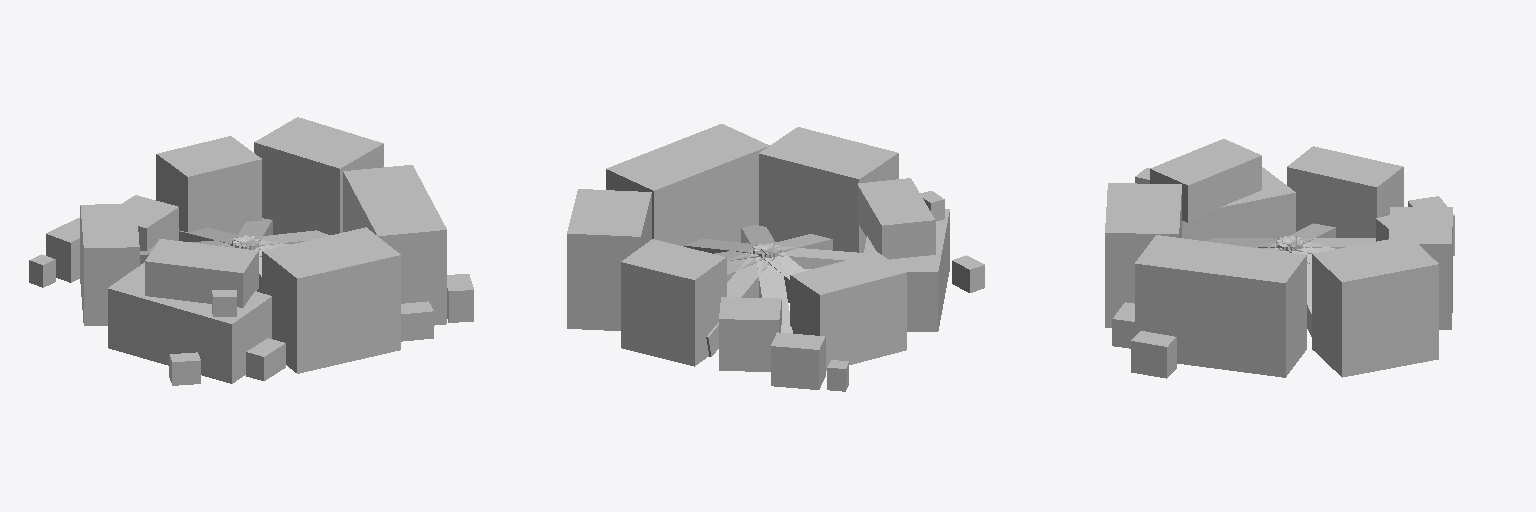
Rendered from fire_pit.obj.
3 views of the same model, side by side, from view 1: azimuth 30°, elevation 25°; view 2: azimuth 150°, elevation 25°; view 3: azimuth 270°, elevation 25° (orthographic).
Parts seen in each view (by area): view 1: Box007, Box052, Box060, Box050; view 2: Box007, Box052, Box053, Box056, Box059, Box057, Box058; view 3: Box007, Box053, Box054.
Boxes of the visible parts, box(x1,y1,x2,y2) form: Box007: box(29, 117, 473, 385); Box052: box(179, 228, 260, 248); Box060: box(233, 230, 329, 249); Box050: box(233, 218, 272, 247); Box007: box(567, 124, 984, 391); Box052: box(706, 244, 781, 356); Box053: box(754, 245, 792, 333); Box056: box(756, 245, 863, 268); Box059: box(684, 239, 780, 257); Box057: box(753, 234, 832, 256); Box058: box(741, 225, 779, 254); Box007: box(1105, 139, 1454, 378); Box053: box(1278, 238, 1375, 250); Box054: box(1276, 223, 1335, 248).
Size of the model in its own units: 1.01 by 0.308 by 0.9565.